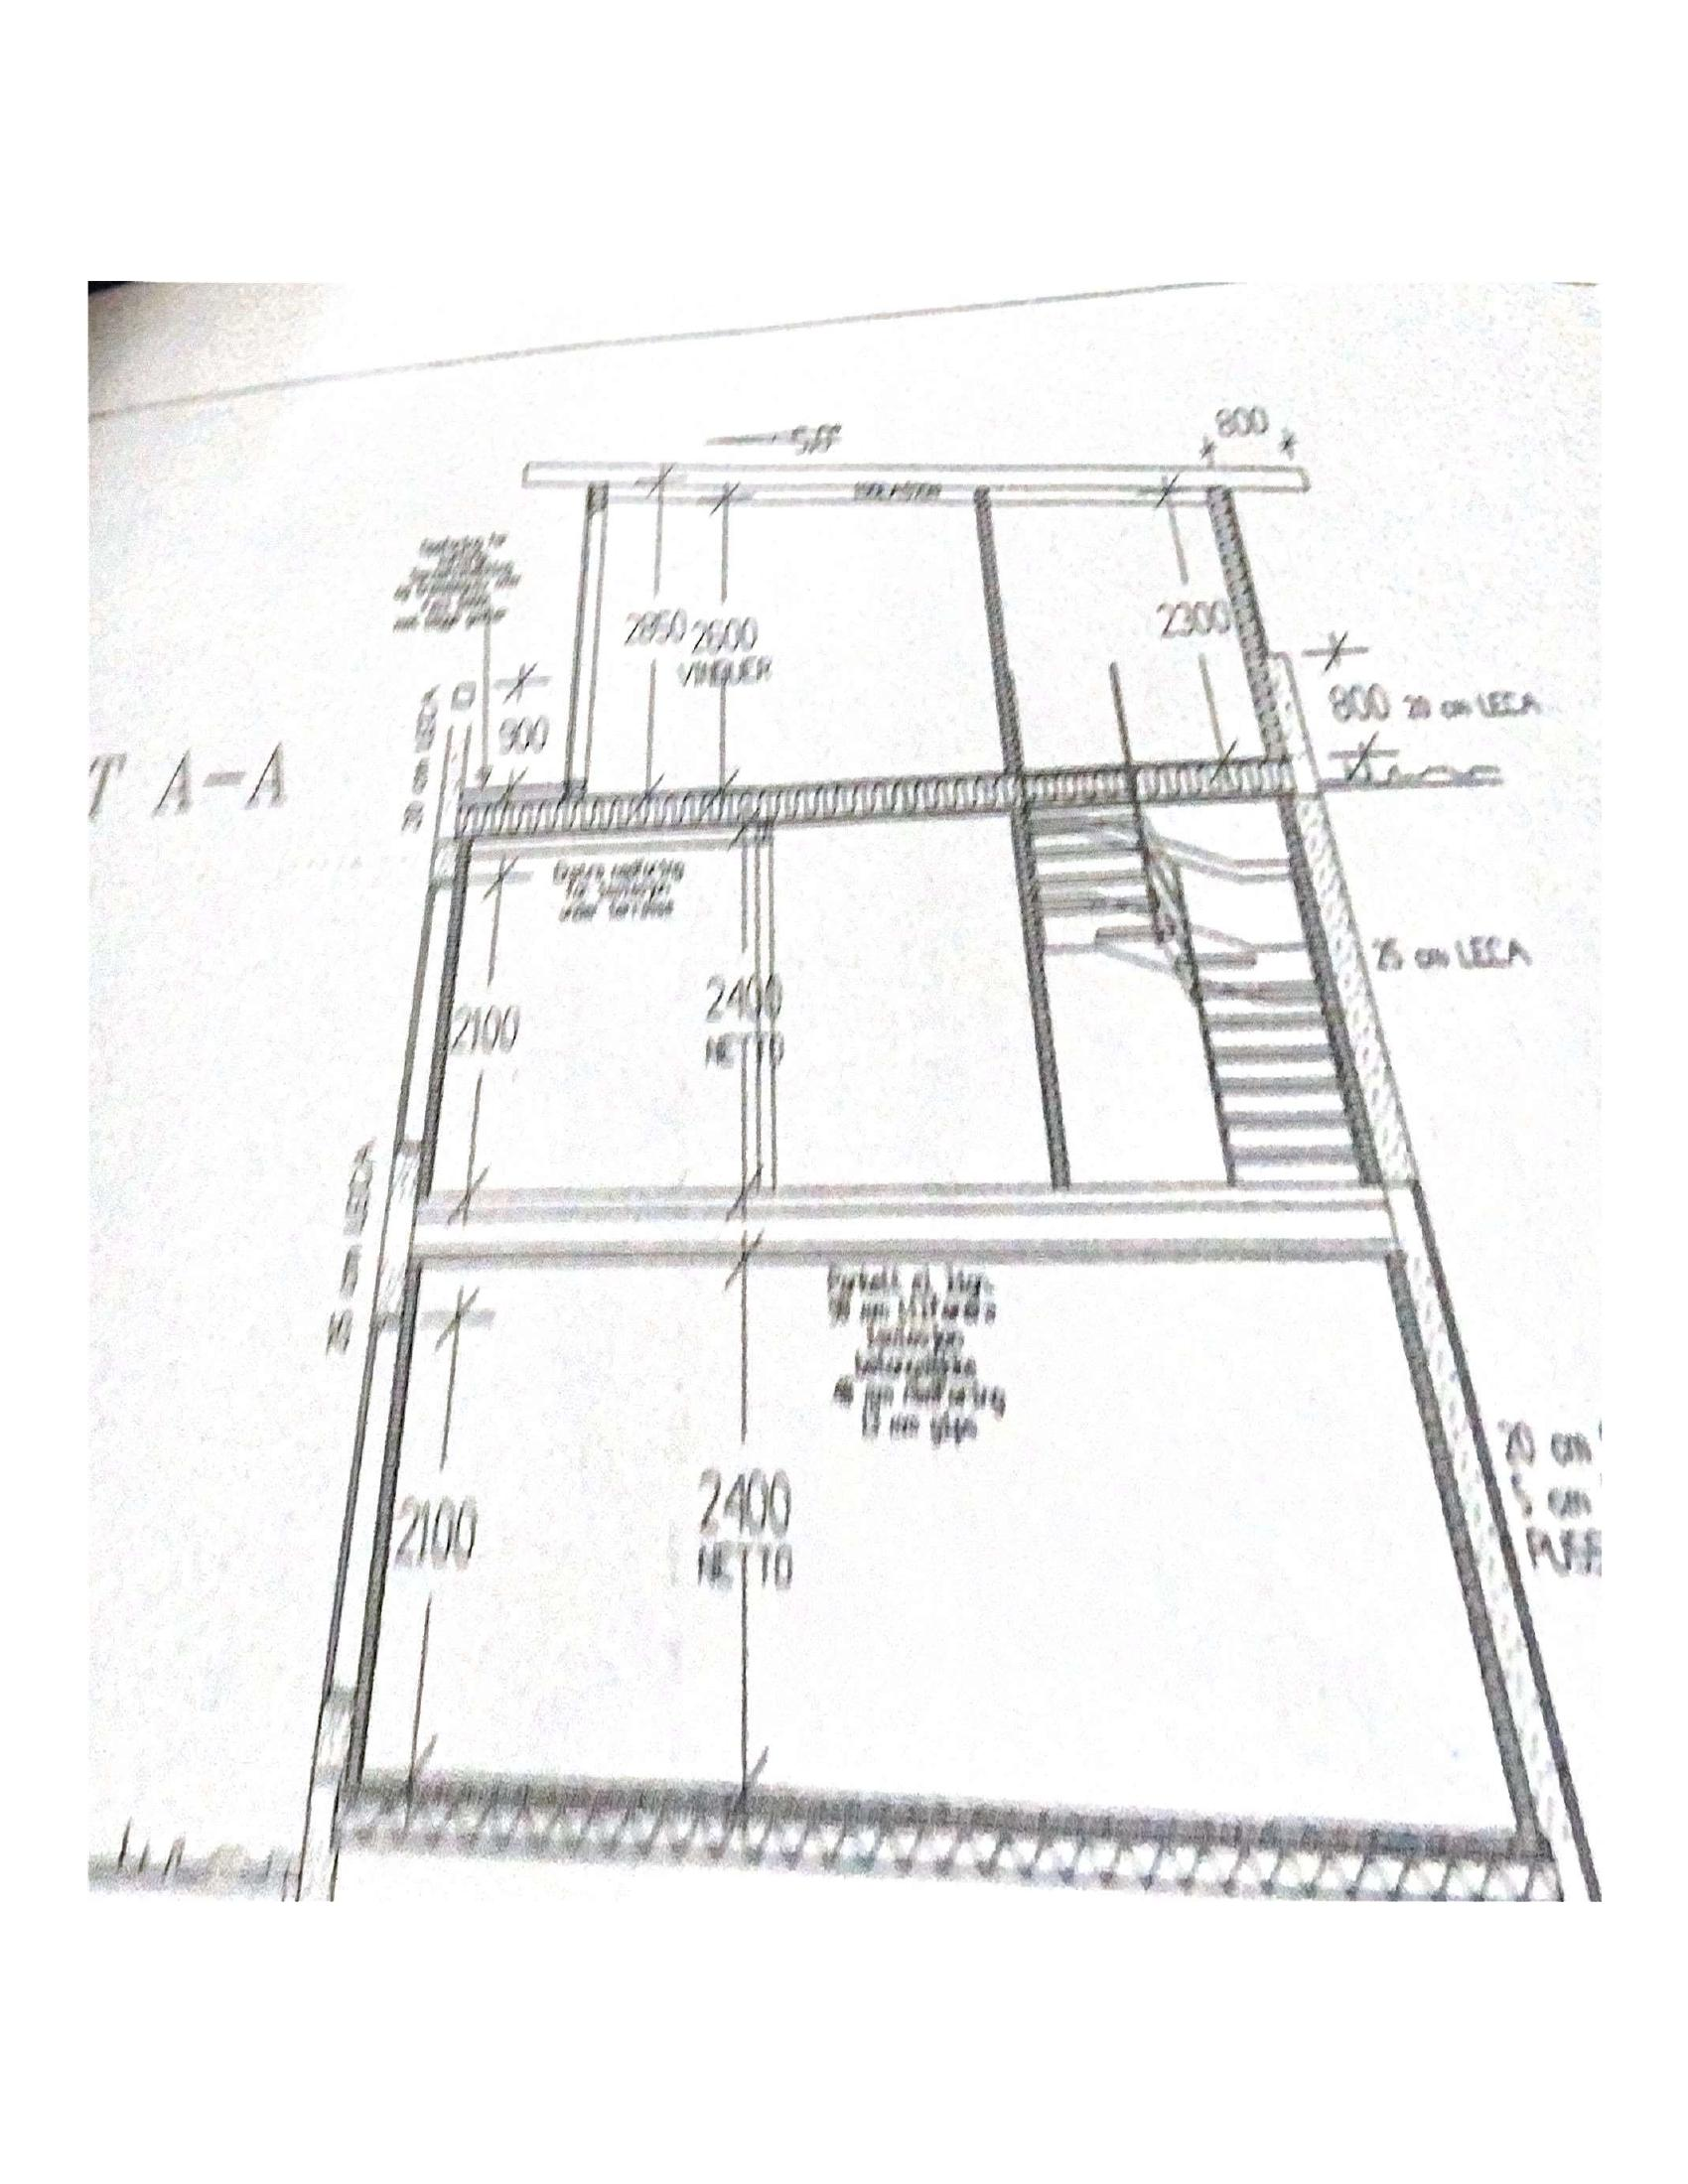snitt: (268, 379, 1631, 1961)
